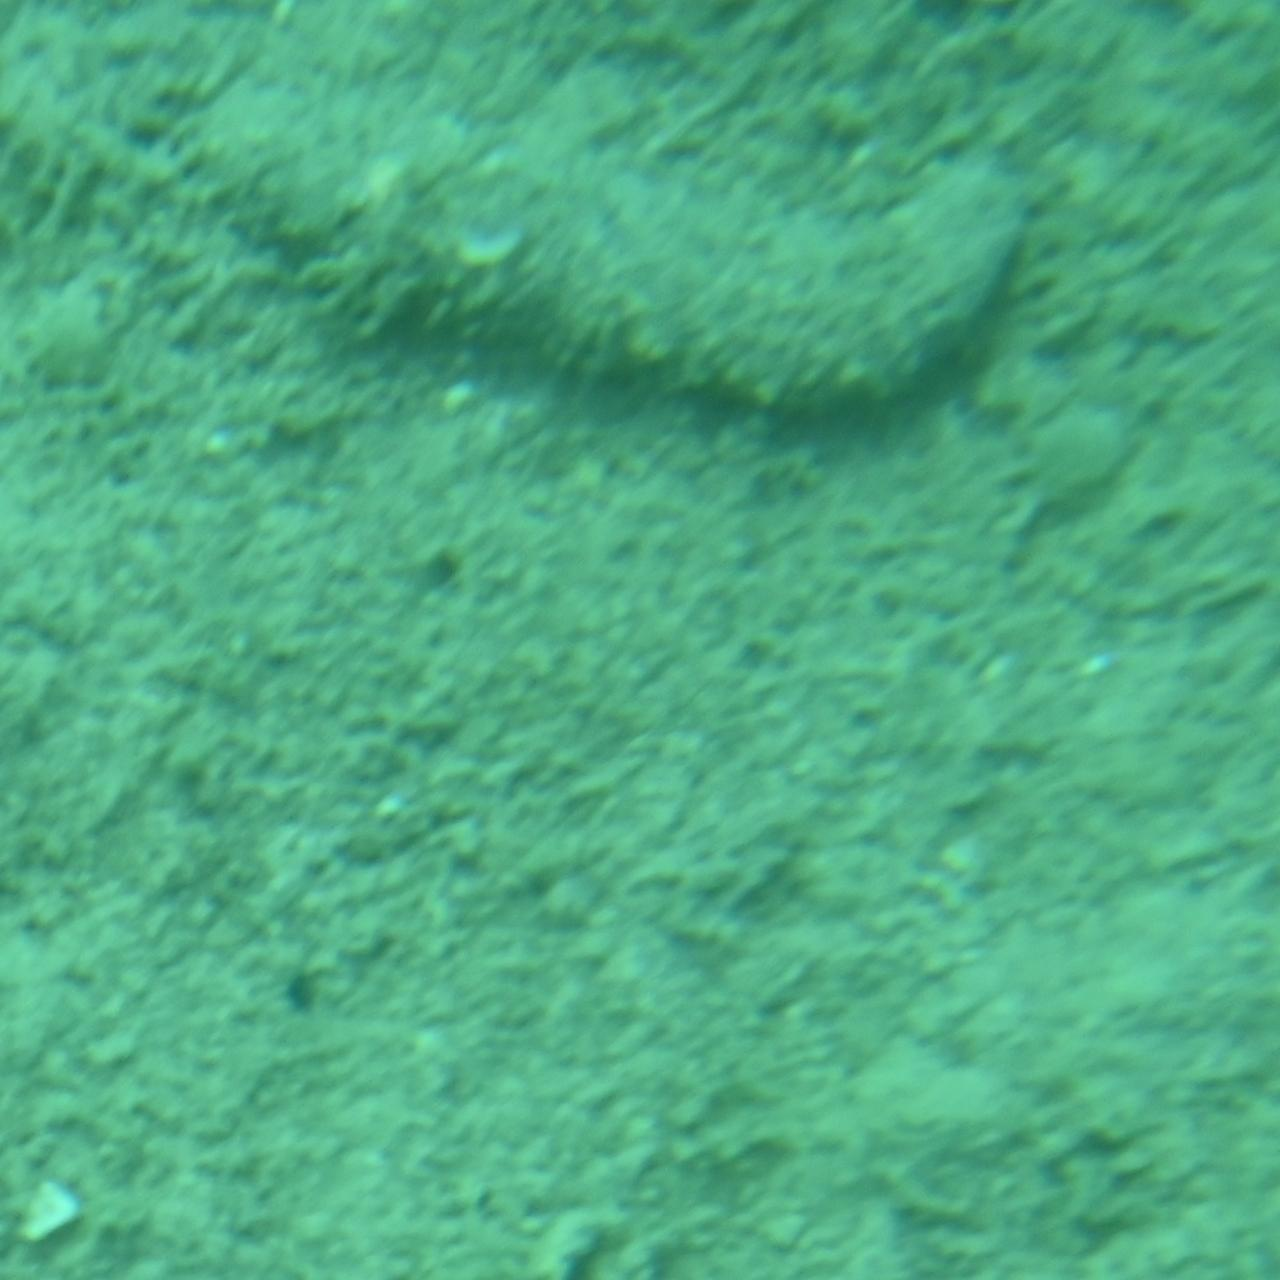Holothuria tubulosa: (192, 86, 1088, 428)
